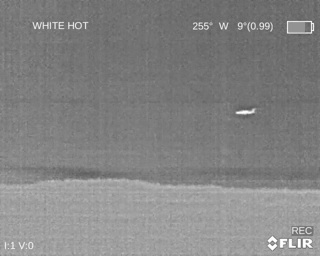AIRPLANE: (234, 107, 256, 116)
